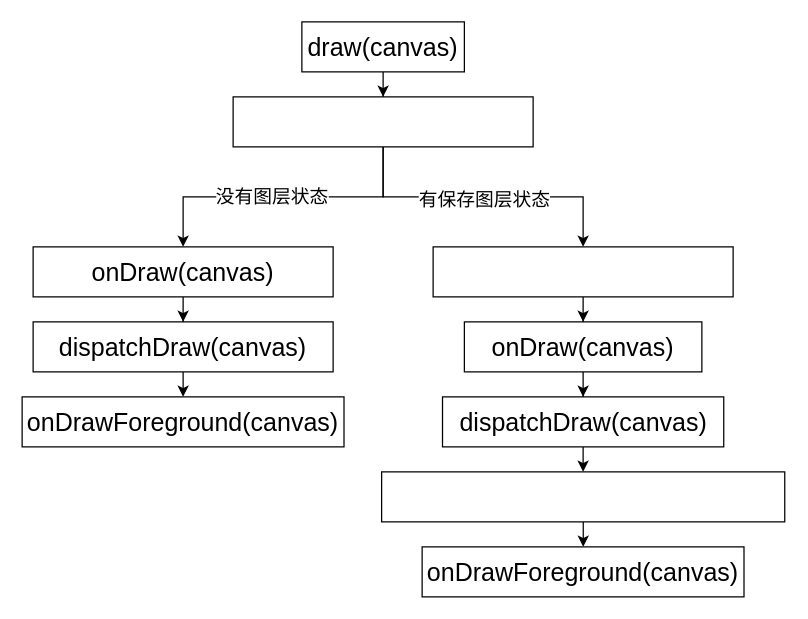
Image size: 808x619. Some labels were removed from this diagram. The shapes that lost their labels are listed below. From the top down, each one's box as (x1, y1, x2, y2) in pixels, then its label:
(232, 96, 533, 147): drawBackground(canvas)
(432, 246, 733, 297): canvas.saveXXLayer()
(380, 471, 785, 522): canvas.restoreToCount(saveCount)
